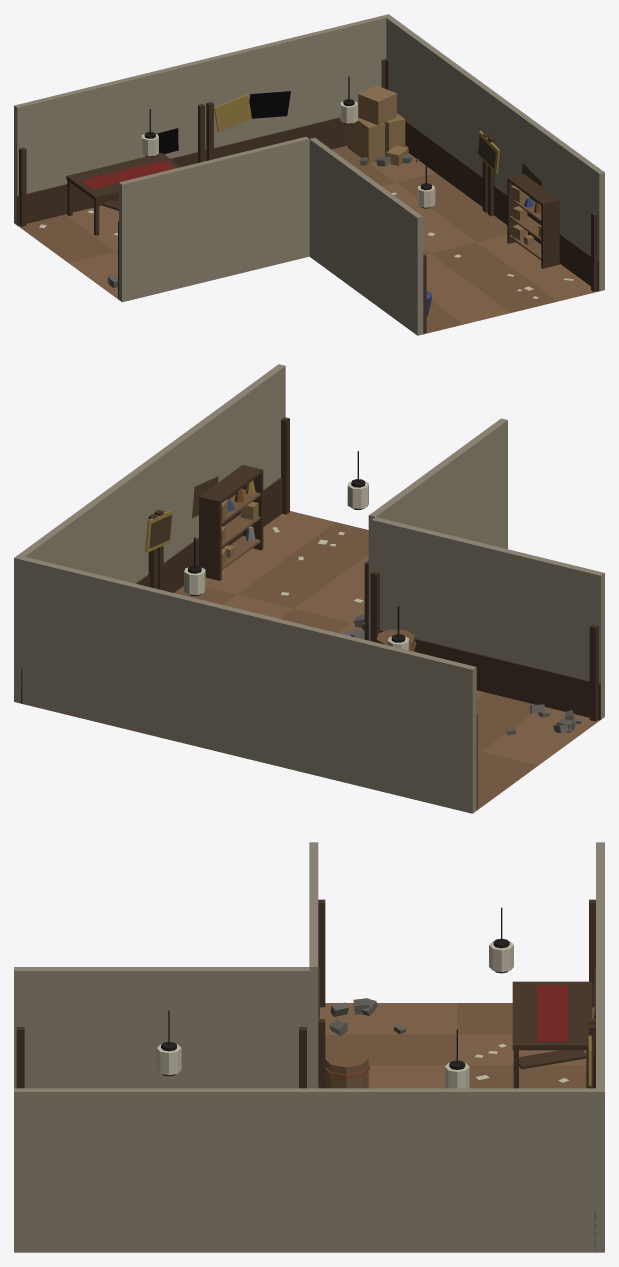
3 views of the same model, one above another, from view 1: azimuth 30°, elevation 25°; view 2: azimuth 150°, elevation 25°; view 3: azimuth 270°, elevation 25° (orthographic). The views are drawn at different scales.
Parts seen in each view (by area): view 1: __A, __A_Deco; view 2: __A, __A_Deco; view 3: __A, __A_Deco.
Part boxes in pixels (bbox=[...]): __A: bbox=[14, 14, 604, 335]; __A_Deco: bbox=[17, 59, 599, 334]; __A: bbox=[14, 364, 604, 813]; __A_Deco: bbox=[21, 417, 600, 810]; __A: bbox=[14, 842, 604, 1252]; __A_Deco: bbox=[16, 899, 595, 1252].
Size of the model in its own units: 1.33 by 1.33 by 0.4043.
